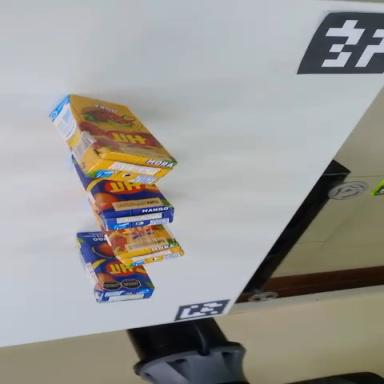HIT-MANGO: (54, 157, 180, 250), (76, 225, 155, 305)
HIT-MORA: (39, 72, 179, 215), (102, 219, 184, 269)
cara_F: (62, 71, 176, 190), (56, 155, 176, 234), (74, 213, 154, 309), (106, 216, 176, 257)
